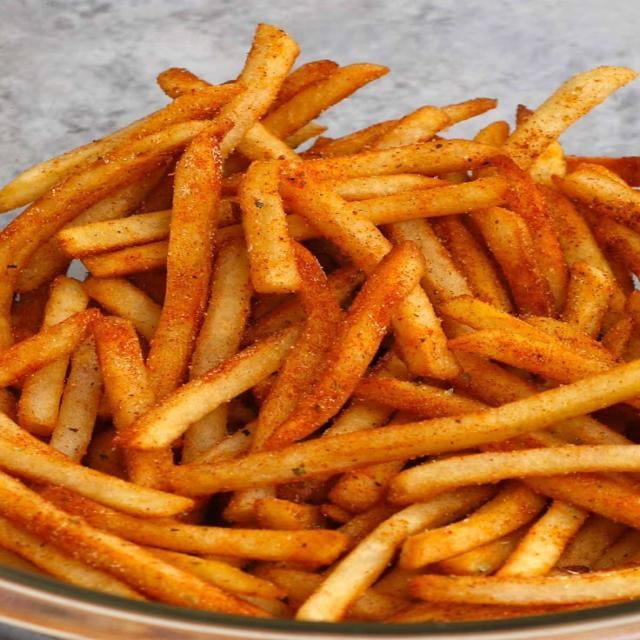potato fries: (0, 25, 639, 623)
